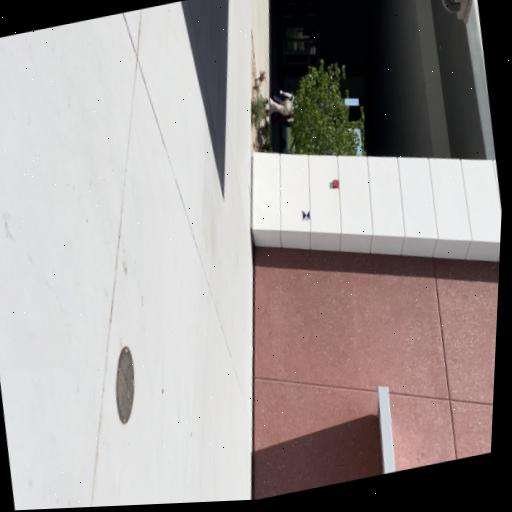target9: (302, 209, 310, 221)
